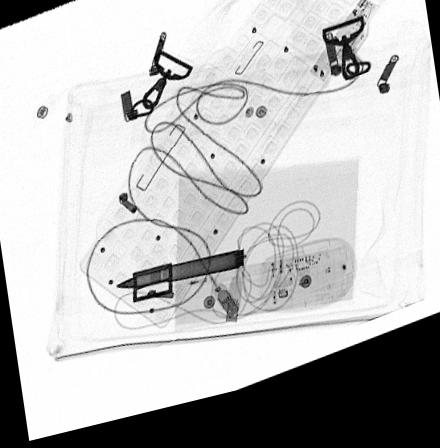Bullet: (114, 260, 246, 295)
